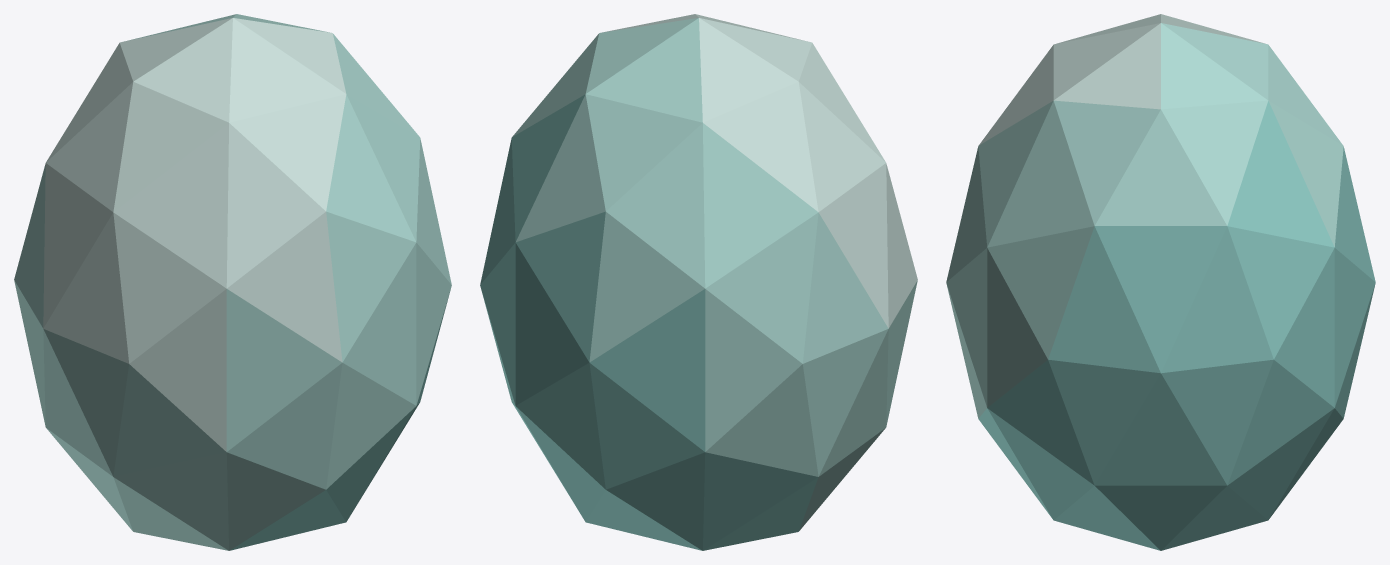
File: pickup_orb.glb
3 renders of one model, left to right at view 1: azimuth 30°, elevation 25°; view 2: azimuth 150°, elevation 25°; view 3: azimuth 270°, elevation 25°, orthographic.
Parts seen in each view (by area): view 1: pickup_orb; view 2: pickup_orb; view 3: pickup_orb.
Part boxes in pixels (bbox=[...]): pickup_orb: bbox=[14, 14, 451, 550]; pickup_orb: bbox=[480, 14, 917, 550]; pickup_orb: bbox=[946, 14, 1375, 550].
Size of what is drawn, in the model's own units: 1.8 by 2.4 by 1.8.
